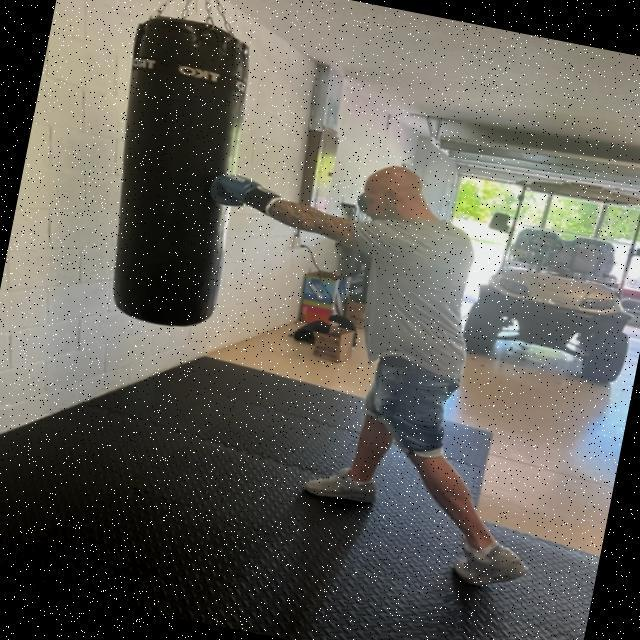cross: (186, 104, 514, 294)
